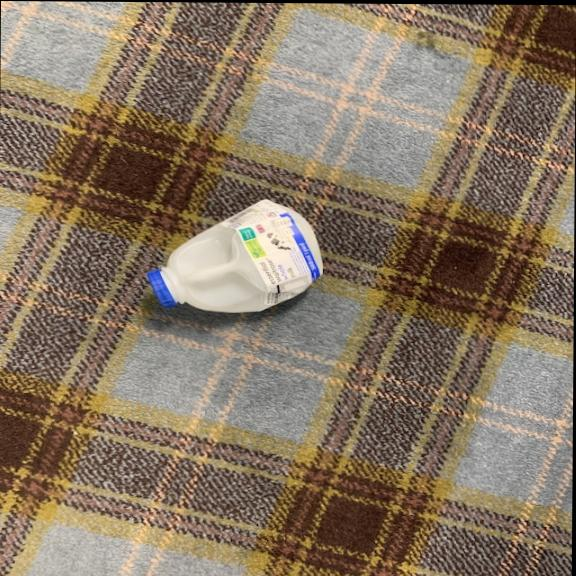Plastik: (142, 194, 324, 313)
